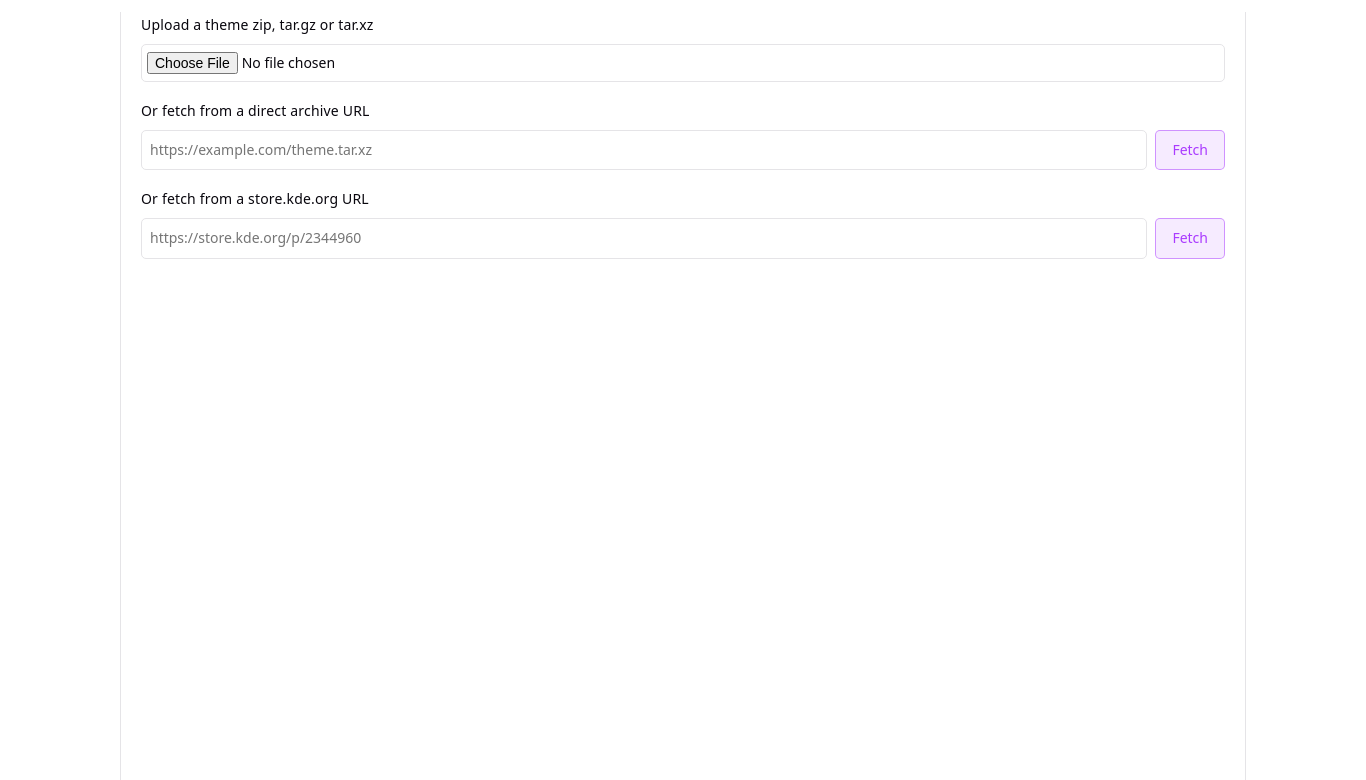
Test: fetching from a store.kde.org URL › names the product alongside the variants so the right page is obviously loaded
Type "https://store.kde.org/p/2359362" into the field labelled "Or fetch from a store.kde.org URL" at (644, 239), box [141,218,1147,259]
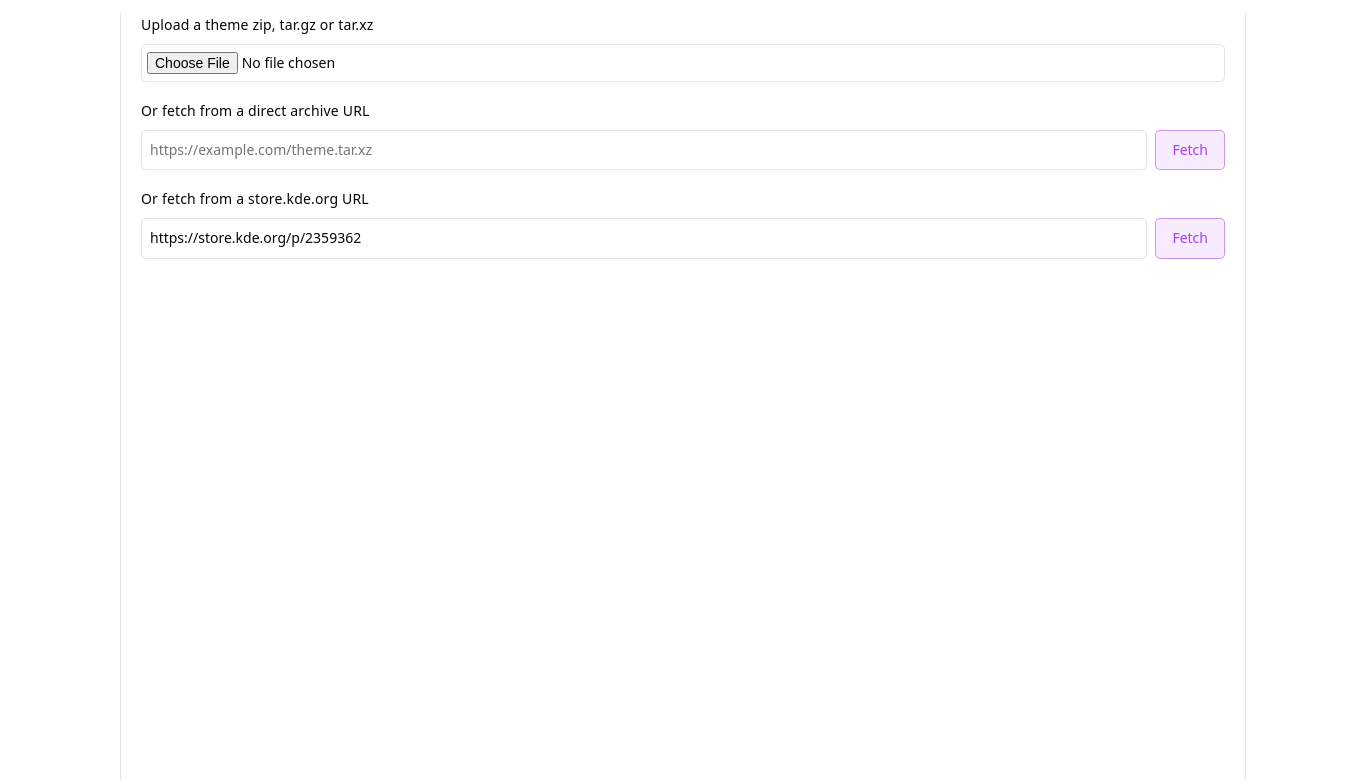
Click the button with aria-label "fetch store product" at (1190, 239), box [1155,218,1225,259]
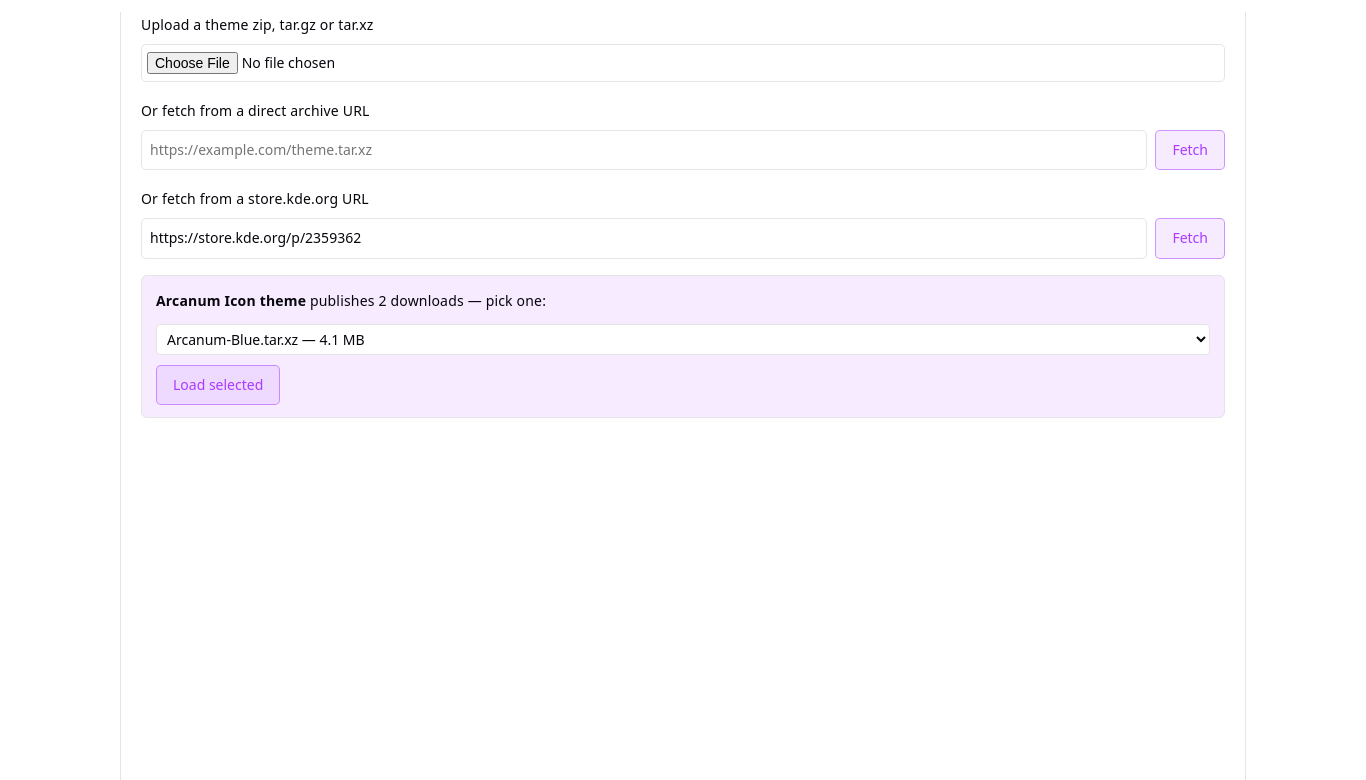
Expected: the text "Arcanum Icon theme" is shown, [156,291,306,310]
